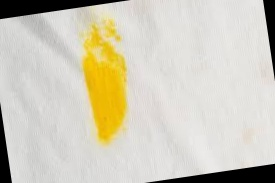mustard: (71, 19, 142, 144)
